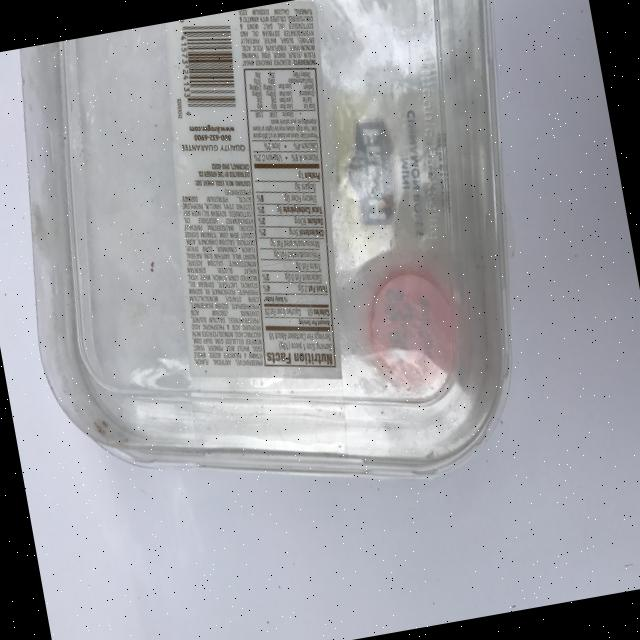plastic: (0, 0, 574, 541)
